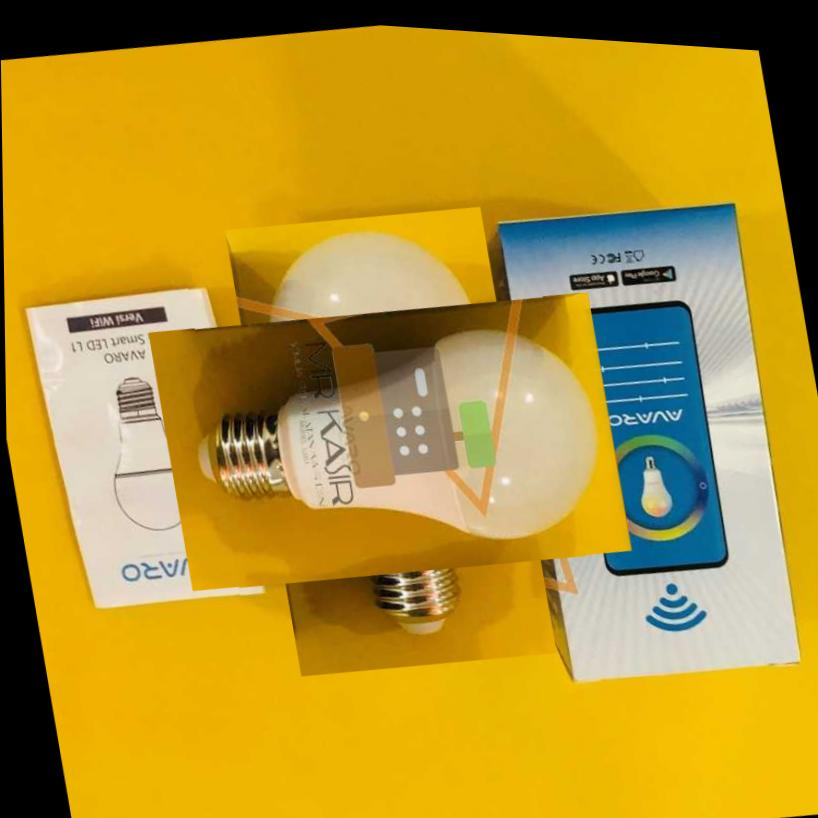Bulb: (184, 223, 593, 648)
